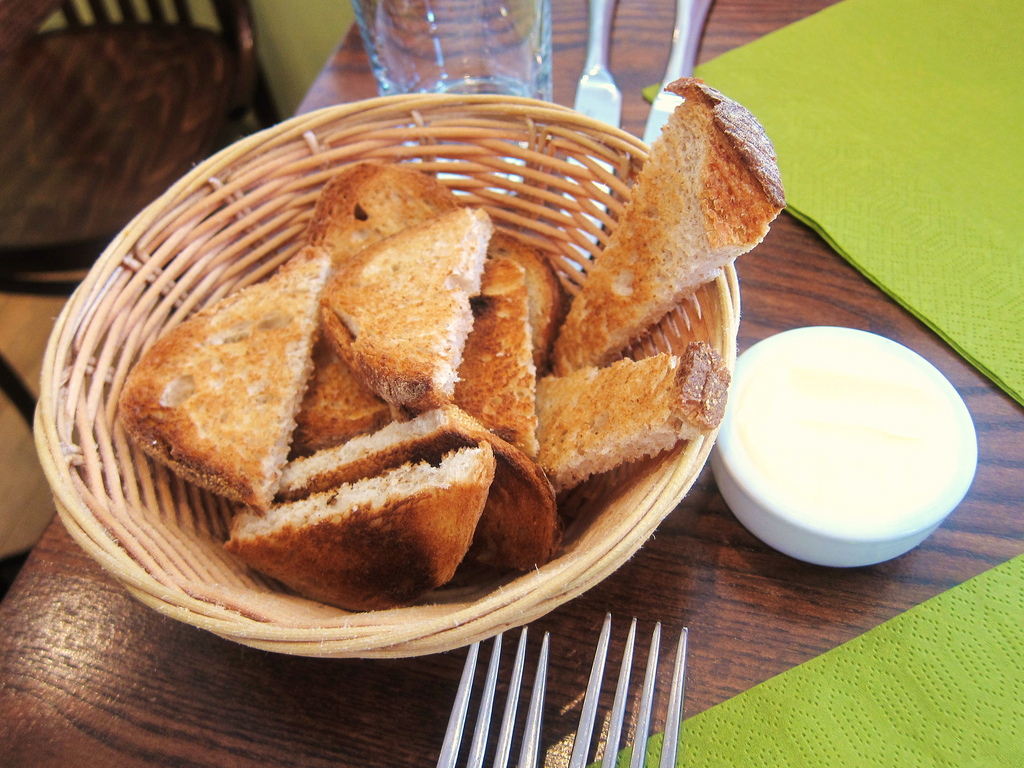slice of bread: (565, 64, 803, 369), (229, 441, 577, 606), (101, 261, 310, 524), (310, 208, 507, 415), (500, 356, 735, 477)
